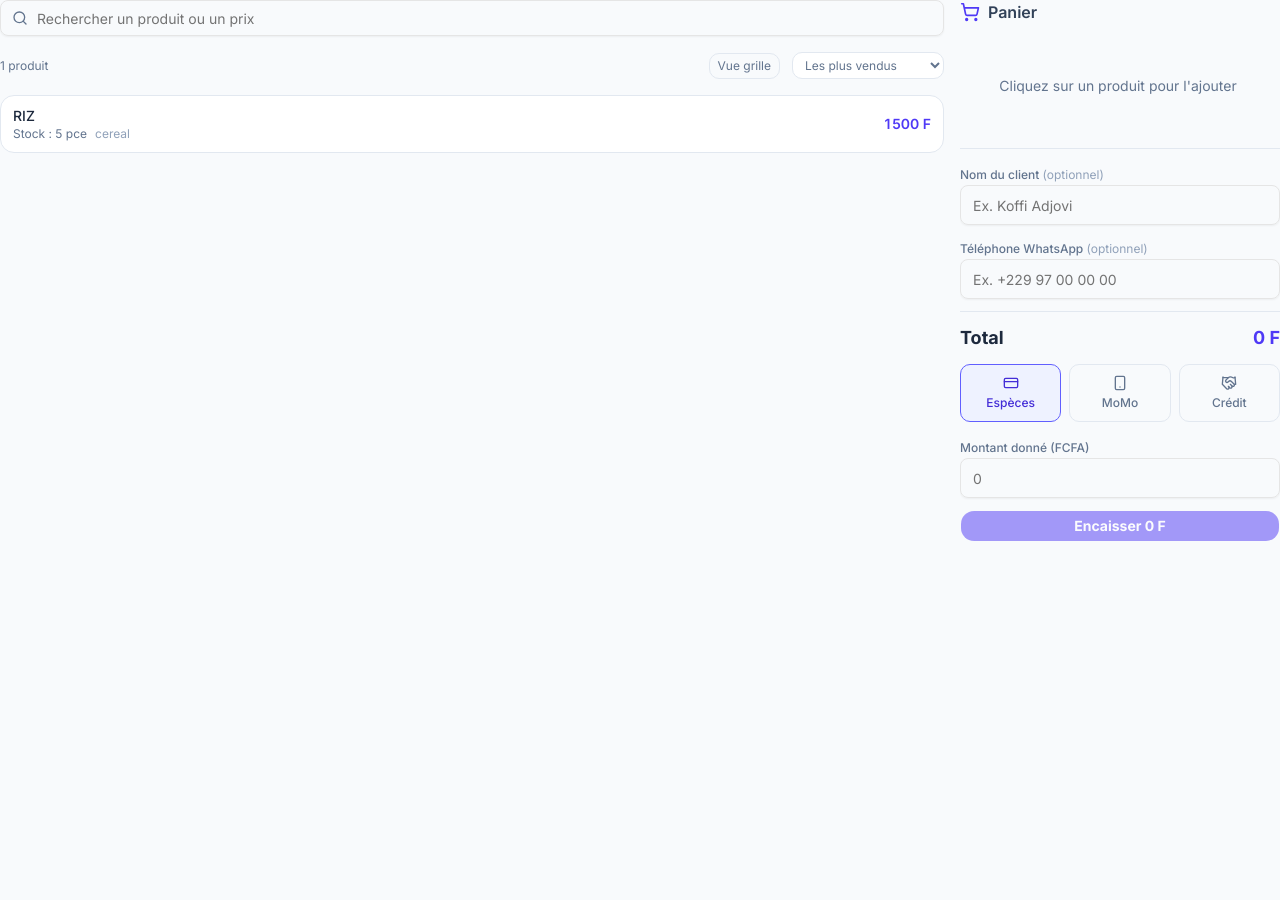
Test case: POS — vente hors-ligne › le crédit hors-ligne se rejoue par record_credit_sale
This screenshot has width=1280, height=900.
Click the text "RIZ" at [24, 116], box [13,107,35,124]
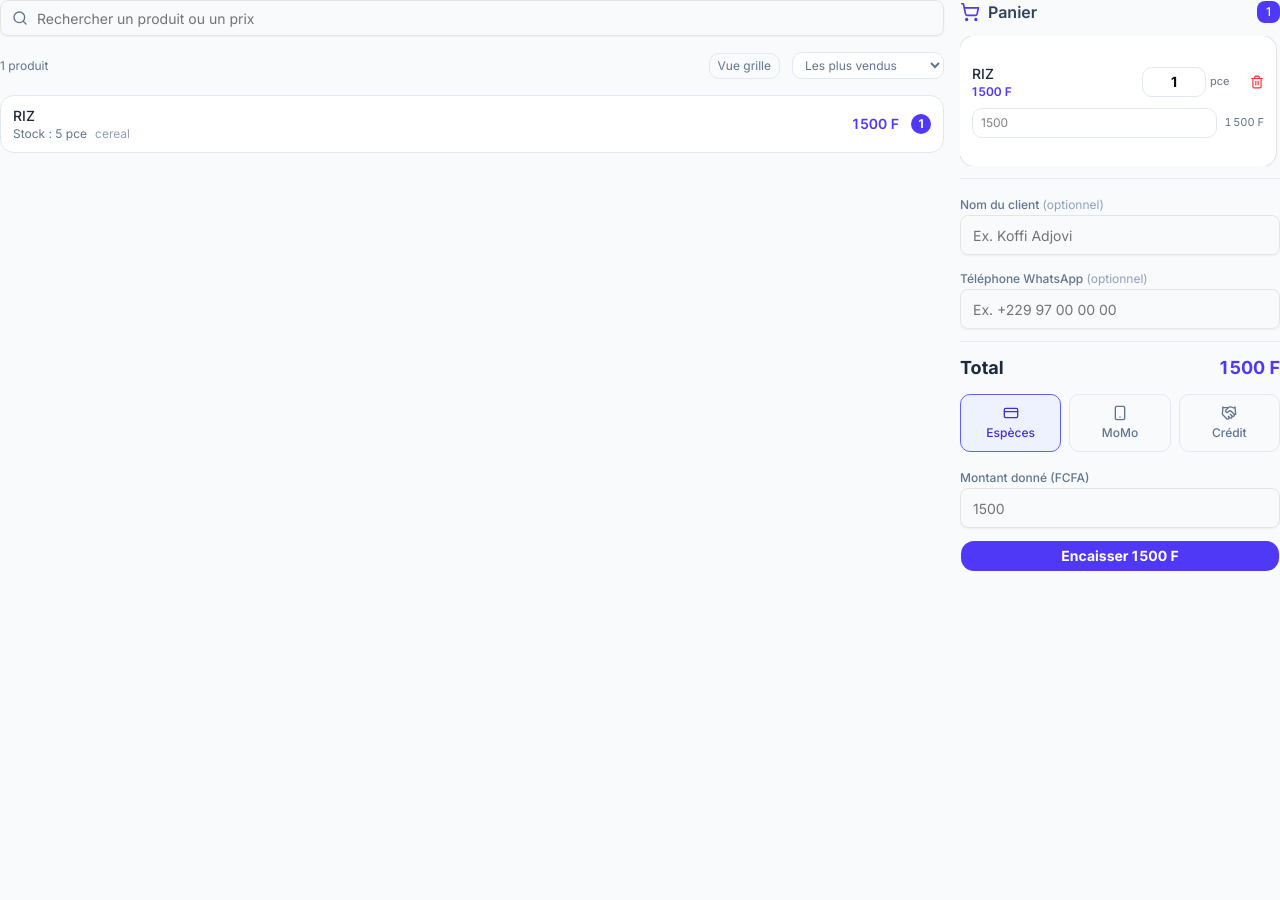
Click the button "Crédit" at [1229, 423], box [1179,394,1279,452]
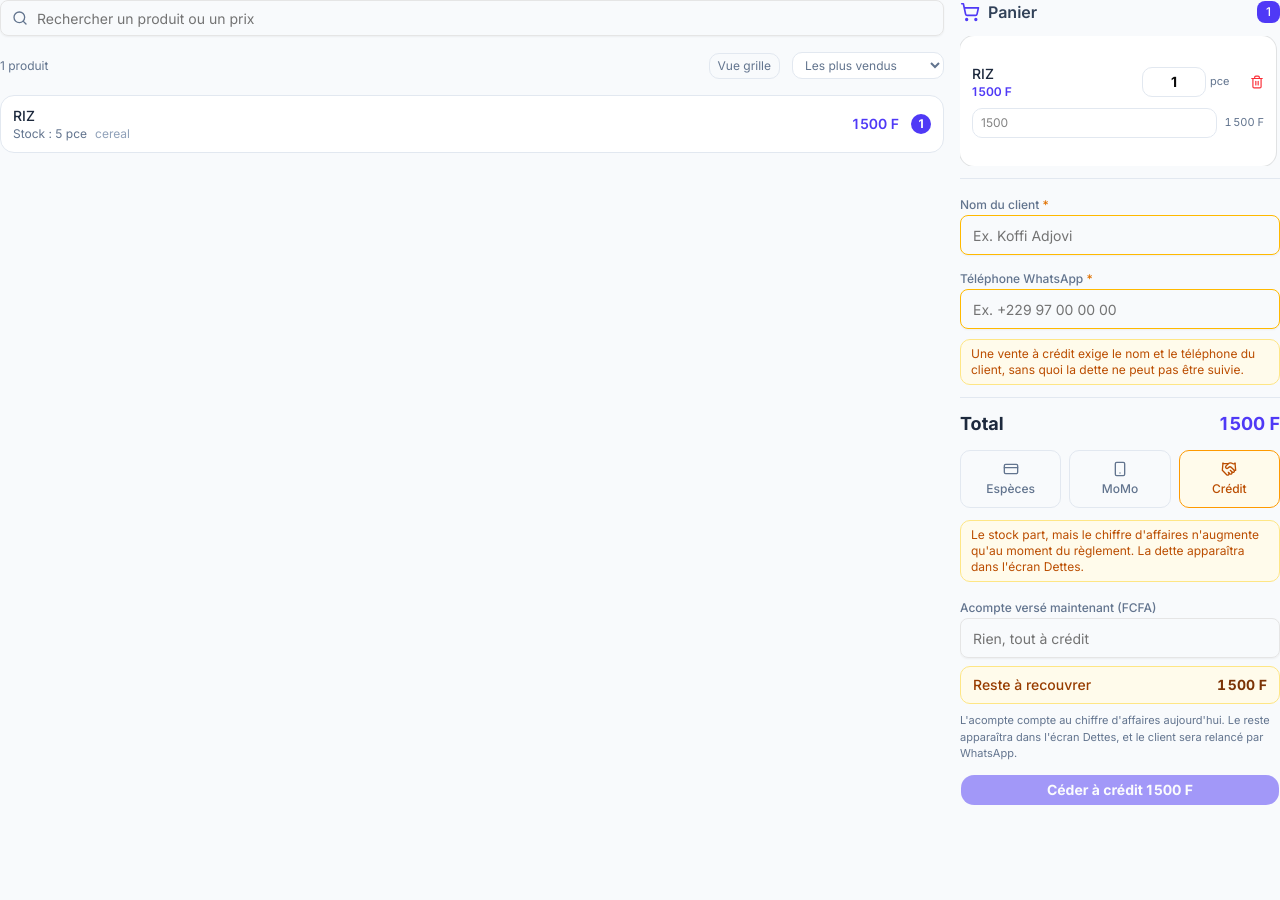
Type "Koffi" into the field labelled "Nom du client" at [1120, 235], box [960,215,1279,255]
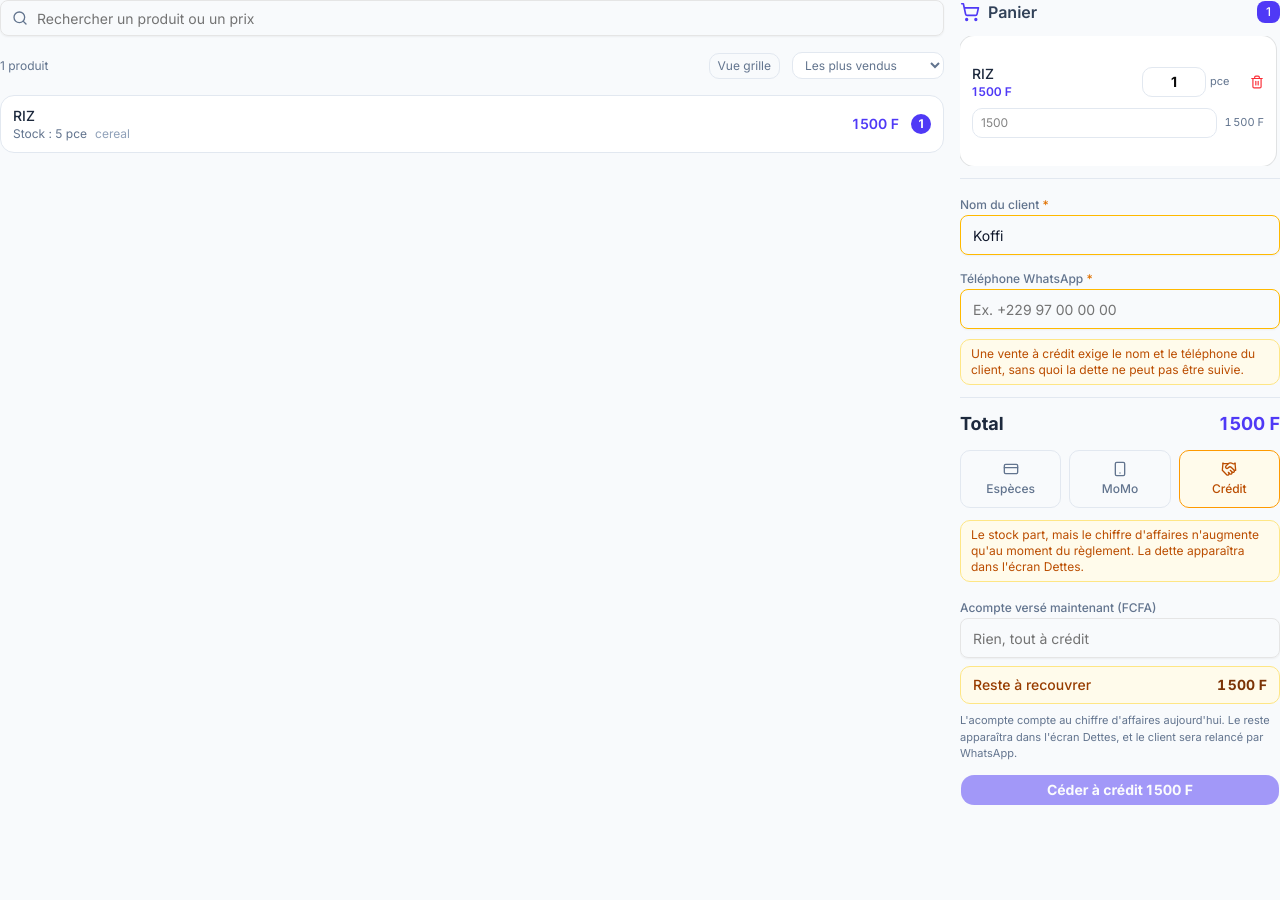
Type "97000000" into the field named "Téléphone du client" at [1120, 309], box [960,289,1279,329]
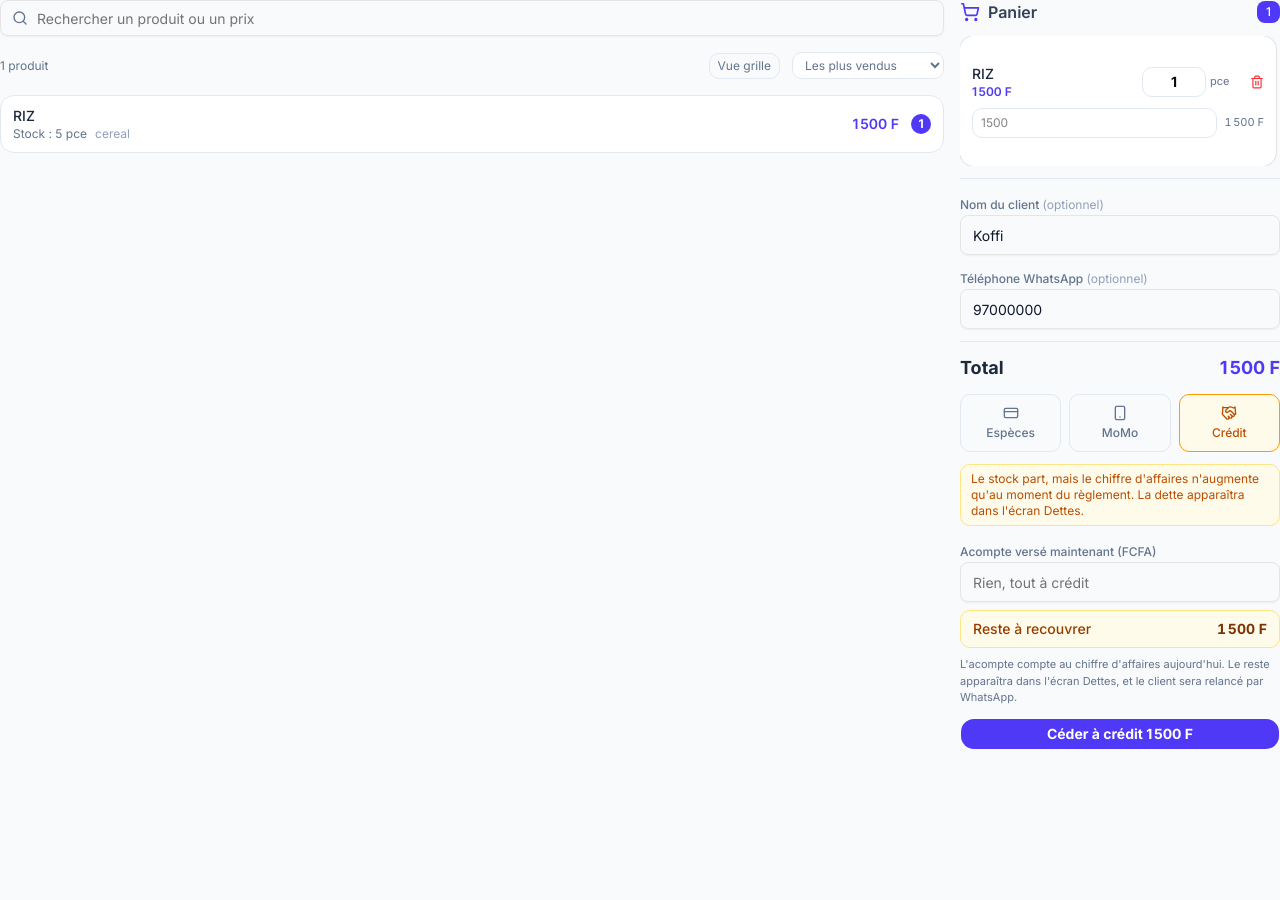
Click the button "Céder à crédit 1 500 F" at [1120, 734], box [960,718,1279,750]
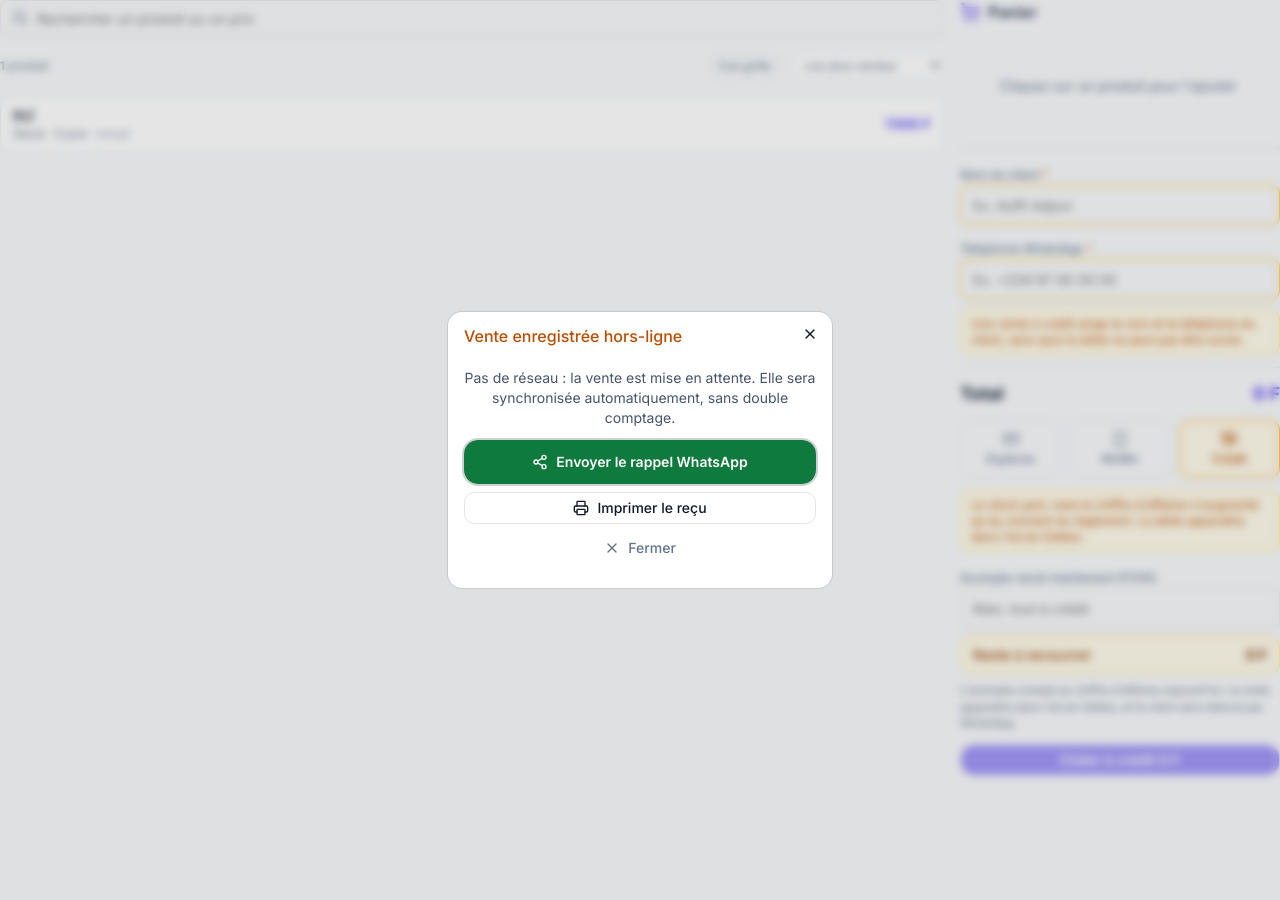
Now the heading "Vente enregistrée hors-ligne" is shown, box [464,326,682,346]
